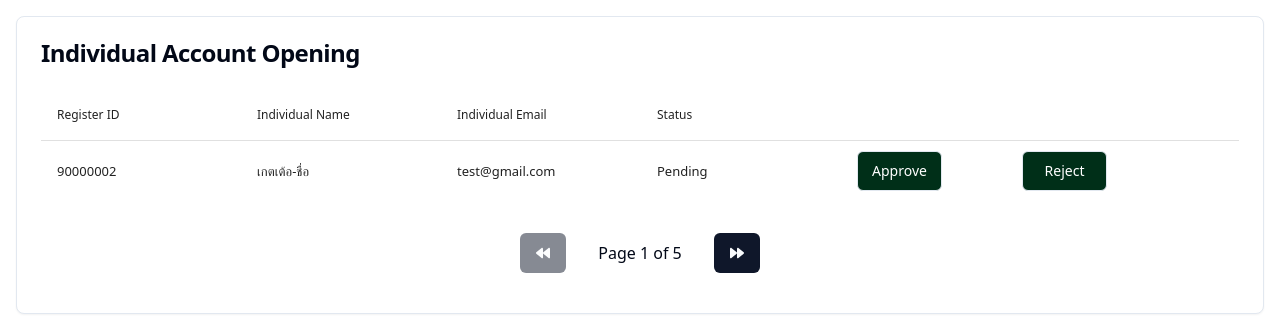
test rendering and approve/reject account › test change page
What coordinates should you click on to do the following:
click the button with test id "nextBtn"
I would click on:
 (737, 253)
Its box is [714,233,760,273].
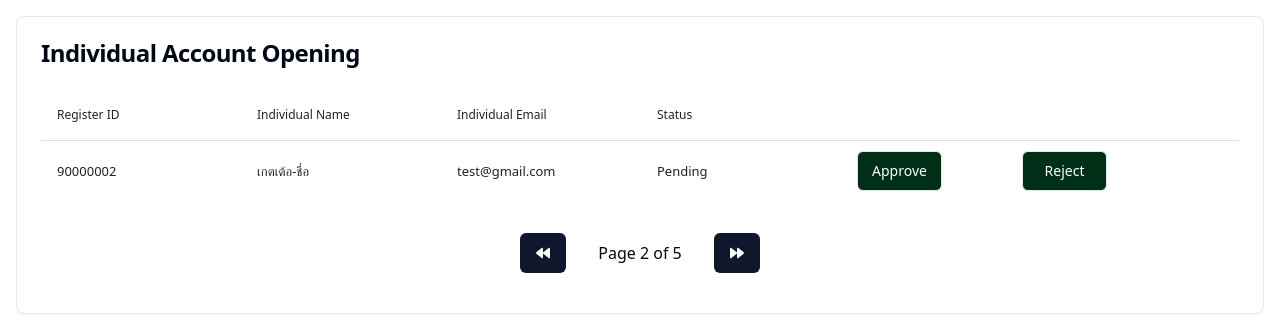
Expected: the text "Page 2 of 5" is shown, [598,241,682,265]
What coordinates should you click on to do the following:
click the button with test id "prevBtn"
I would click on:
 (543, 253)
Its box is [520,233,566,273].
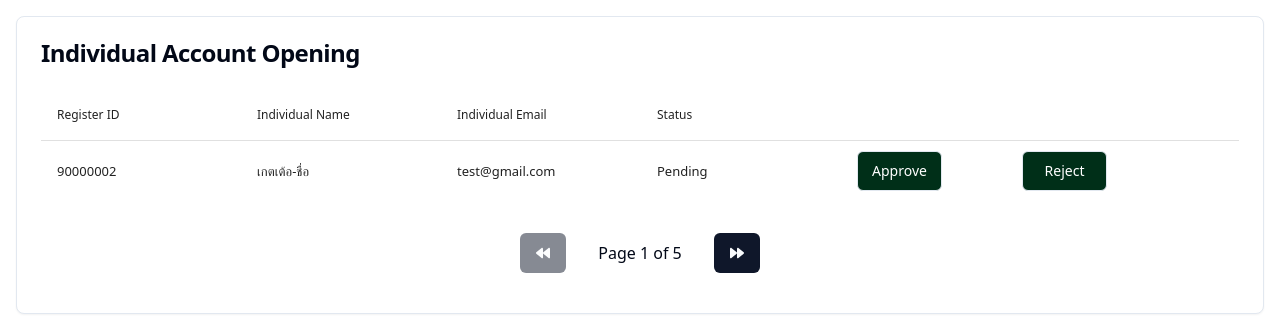
Expected: the text "Page 1 of 5" is shown, [598,241,682,265]
